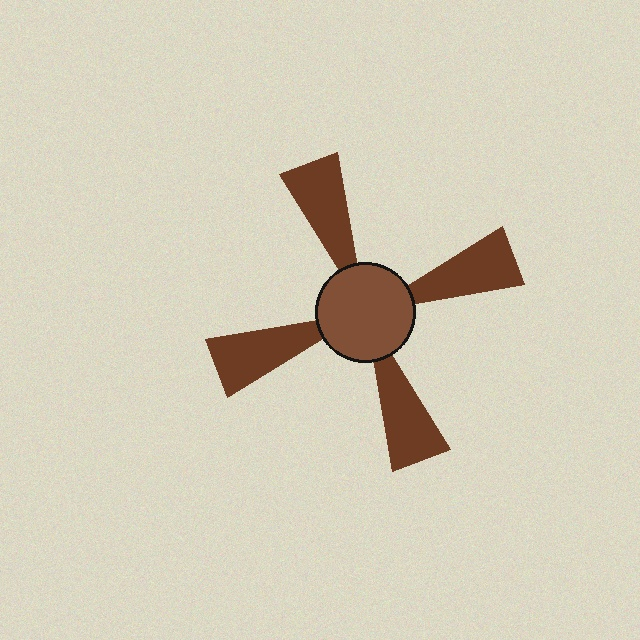fan: (176, 123, 554, 501)
